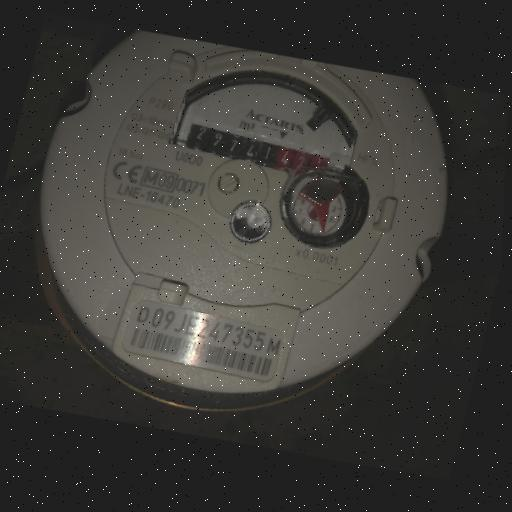1: (256, 139, 280, 166), (307, 153, 329, 172)
2: (189, 124, 211, 149), (291, 149, 314, 172)
4: (239, 136, 263, 161), (273, 145, 297, 170)
7: (220, 131, 245, 158)
9: (203, 127, 227, 153)
border_water_meter_number: (180, 103, 338, 187)
